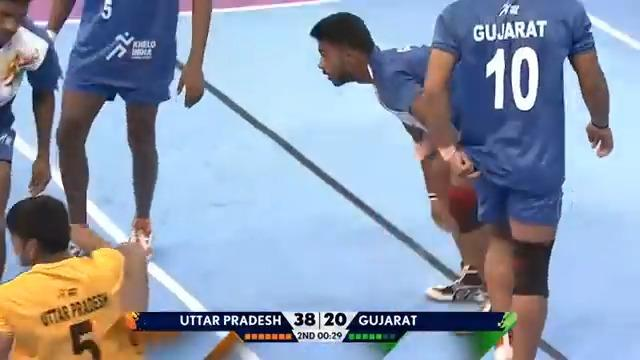Player: (410, 0, 614, 358), (309, 10, 493, 305), (44, 0, 213, 260), (0, 0, 63, 281)
Raider: (0, 193, 153, 359)
